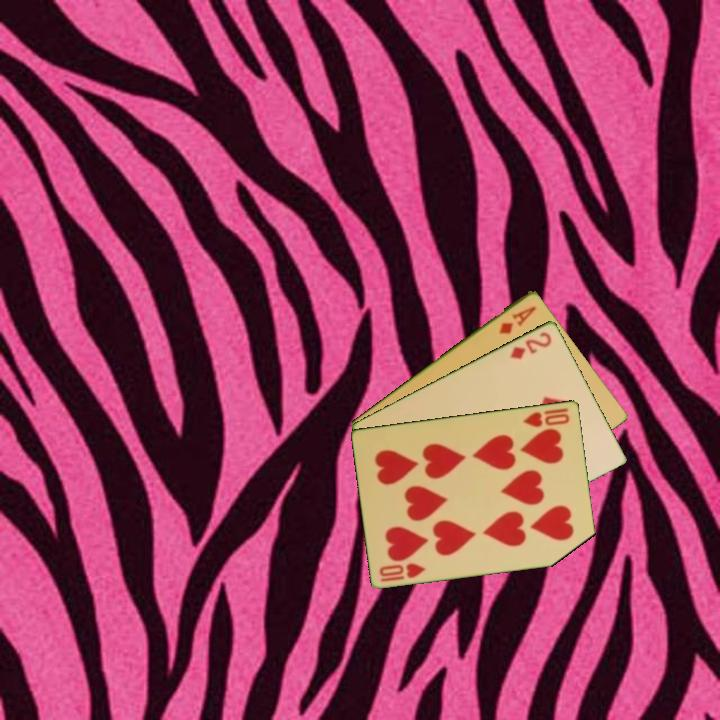10h: (520, 404, 572, 430), (376, 559, 428, 584)
2d: (506, 328, 554, 362)
Ad: (495, 302, 539, 337)
